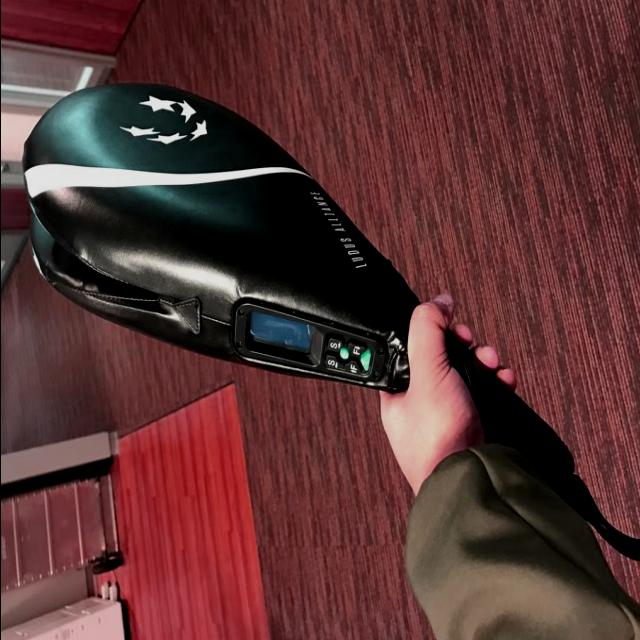paddle: (12, 78, 416, 398)
